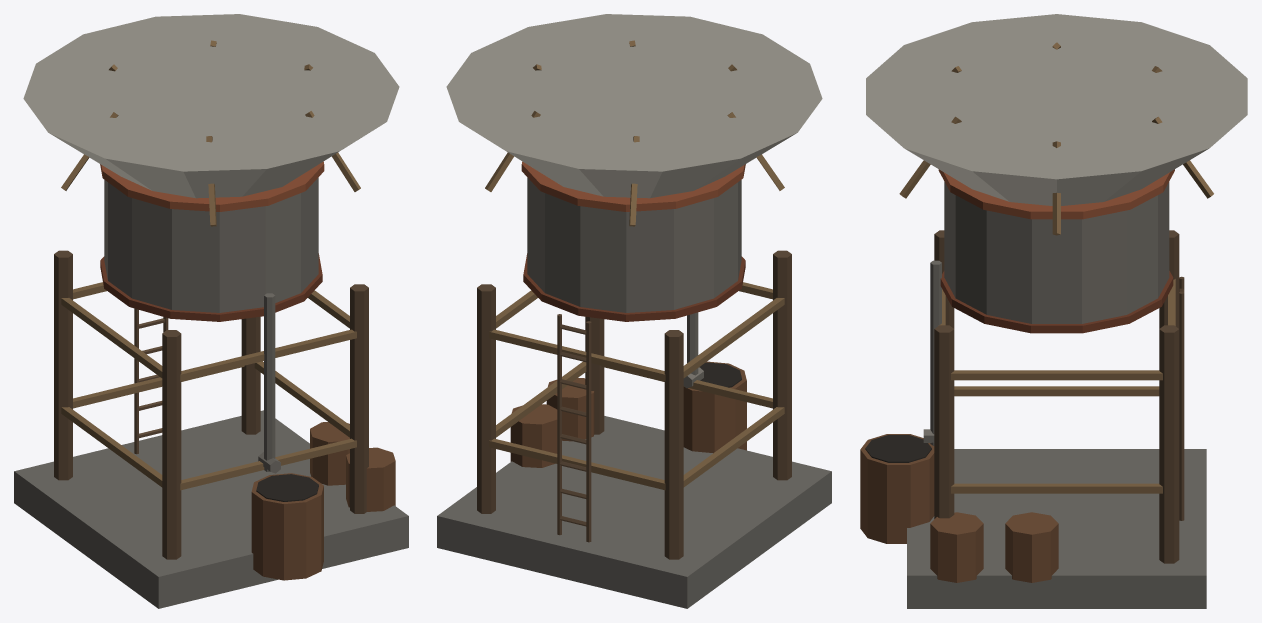
The model's file is S_WaterCollector.glb.
3 renders of one model, left to right at view 1: azimuth 30°, elevation 25°; view 2: azimuth 150°, elevation 25°; view 3: azimuth 270°, elevation 25°, orthographic. The views are drawn at different scales.
Visible parts, largest first — view 1: S_WaterCollector; view 2: S_WaterCollector; view 3: S_WaterCollector.
Part boxes in pixels (box(x1,y1,x2,y2)): S_WaterCollector: box(14, 14, 408, 608); S_WaterCollector: box(437, 14, 831, 608); S_WaterCollector: box(860, 14, 1247, 608).
Bounding box in the file's own units: 4.7 × 6.02 × 4.65.
